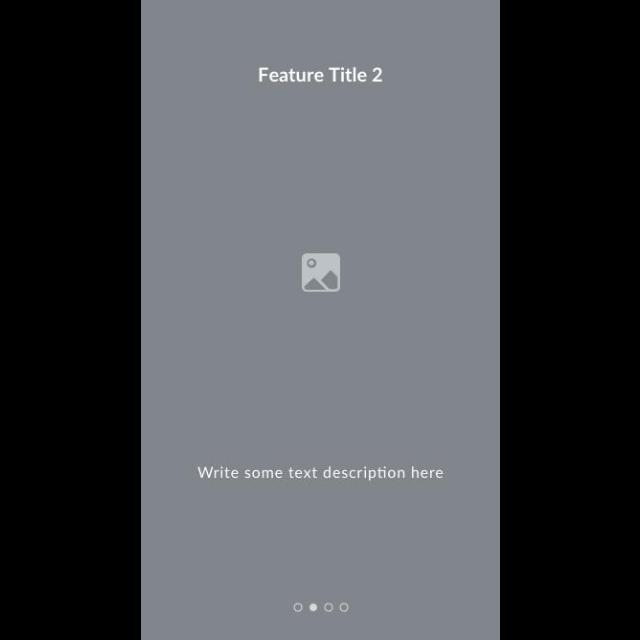image: (302, 253, 341, 293)
pageindicator: (294, 602, 348, 612)
text: (198, 466, 442, 480), (258, 68, 384, 82)
